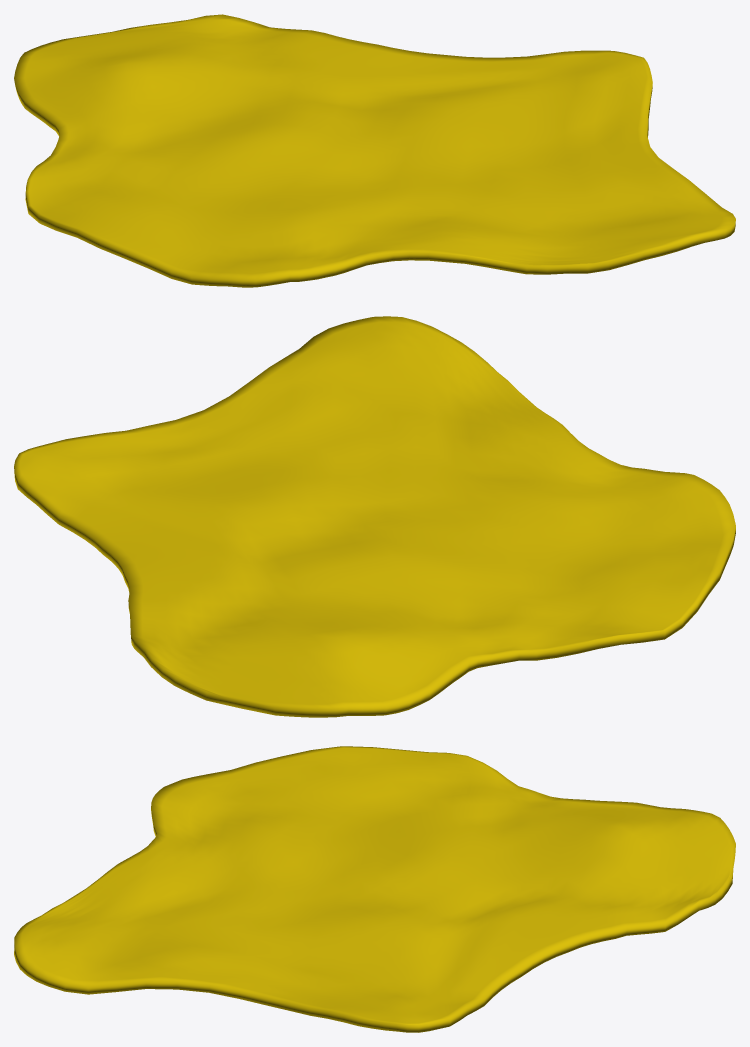
The model's file is musztardaplama.fbx.
3 views of the same model, one above another, from view 1: azimuth 30°, elevation 25°; view 2: azimuth 150°, elevation 25°; view 3: azimuth 270°, elevation 25° (orthographic). The views are drawn at different scales.
Parts seen in each view (by area): view 1: Circle; view 2: Circle; view 3: Circle.
Part boxes in pixels (x1,y1,x2,y2): Circle: [14, 14, 735, 287]; Circle: [14, 316, 735, 717]; Circle: [14, 746, 735, 1032].
Size of the model in its own units: 240 by 11.29 by 259.
